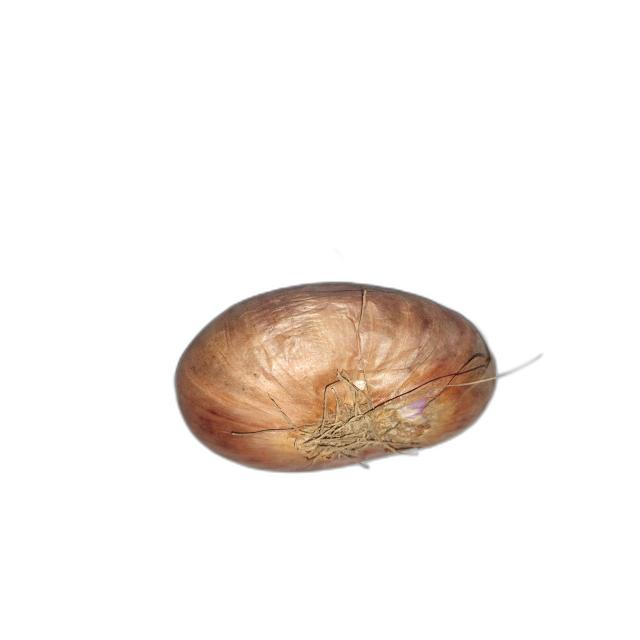onion: (173, 281, 502, 474)
